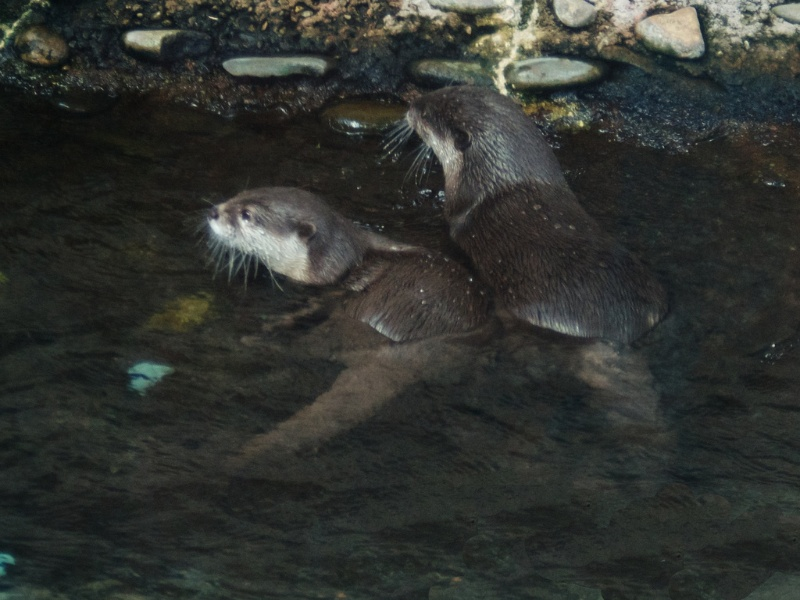minkish: (390, 79, 675, 452), (197, 185, 496, 457)
